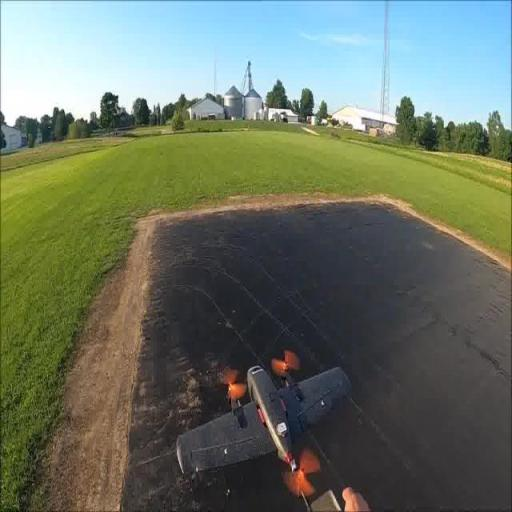uav: (174, 346, 352, 512)
